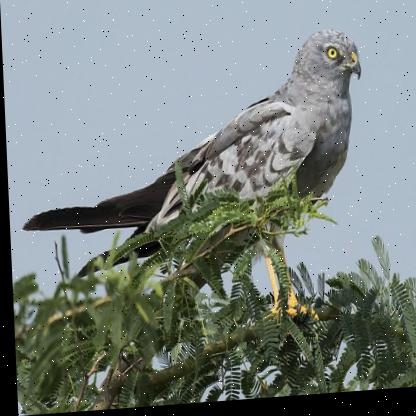Burung: (11, 33, 369, 338)
